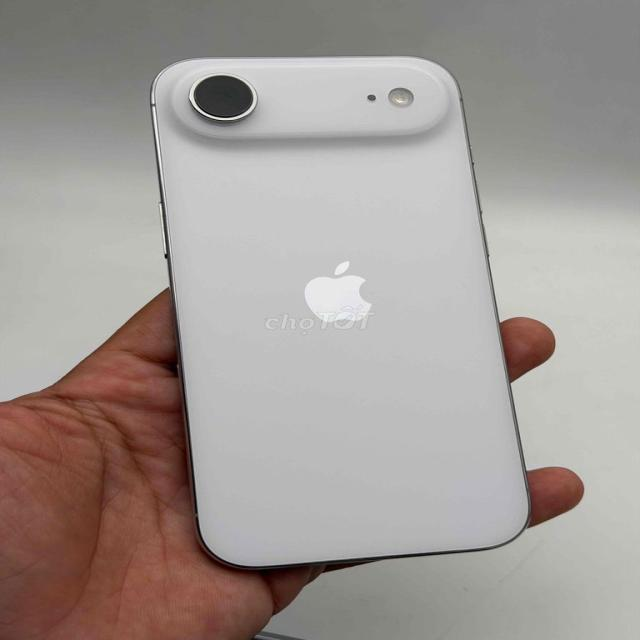gen_17: (135, 51, 563, 585)
